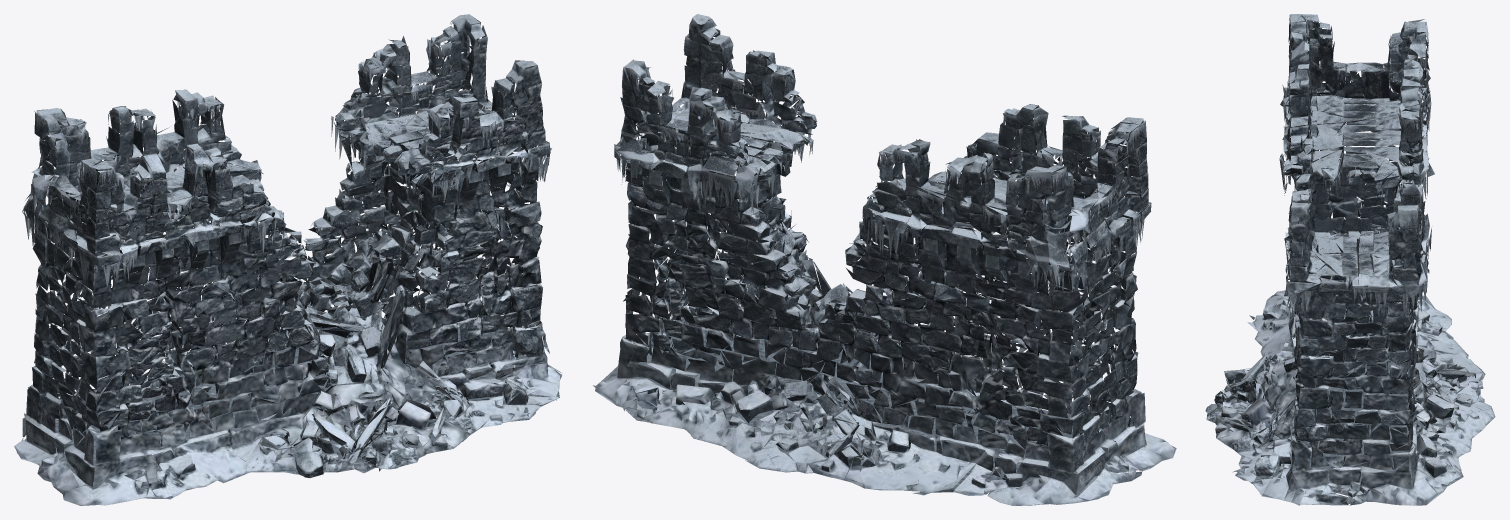
File: wall.glb
The picture shows the model from 3 angles, left to right: view 1: azimuth 30°, elevation 25°; view 2: azimuth 150°, elevation 25°; view 3: azimuth 270°, elevation 25°; orthographic projection. The views are drawn at different scales.
Visible parts, largest first — view 1: Mesh_0; view 2: Mesh_0; view 3: Mesh_0.
Part boxes in pixels (left/top/right/bottom): Mesh_0: left=14, top=14, right=562, bottom=505; Mesh_0: left=593, top=14, right=1176, bottom=505; Mesh_0: left=1205, top=14, right=1495, bottom=505.
Size of the model in its own units: 5 by 3.13 by 2.81.
Materials: 1 (1 with a texture image).
